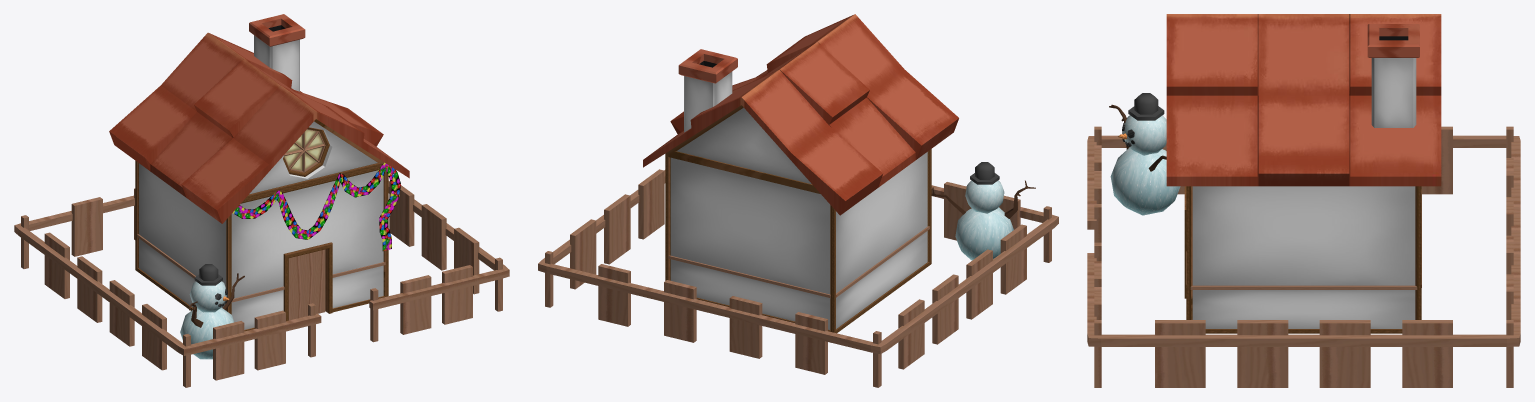
The model's file is house 2.fbx.
3 renders of one model, left to right at view 1: azimuth 30°, elevation 25°; view 2: azimuth 150°, elevation 25°; view 3: azimuth 270°, elevation 25°, orthographic. The views are drawn at different scales.
Visible parts, largest first — view 1: Cube, Plane.002, Cube.003, Plane.001, Icosphere, Cube.001, Cylinder.001; view 2: Cube, Plane.002, Icosphere, Cube.001; view 3: Cube, Plane.002, Icosphere, Cube.001.
Part boxes in pixels (x1=…): Cube: x1=109, y1=32, x2=409, y2=331; Plane.002: x1=14, y1=181, x2=509, y2=387; Cube.003: x1=283, y1=242, x2=332, y2=321; Plane.001: x1=233, y1=162, x2=400, y2=250; Icosphere: x1=180, y1=264, x2=244, y2=359; Cube.001: x1=249, y1=14, x2=305, y2=91; Cylinder.001: x1=283, y1=127, x2=329, y2=176; Cube: x1=643, y1=14, x2=958, y2=333; Plane.002: x1=538, y1=169, x2=1058, y2=387; Icosphere: x1=931, y1=162, x2=1035, y2=260; Cube.001: x1=678, y1=49, x2=737, y2=132; Cube: x1=1166, y1=14, x2=1441, y2=333; Plane.002: x1=1087, y1=126, x2=1520, y2=387; Icosphere: x1=1109, y1=93, x2=1180, y2=215; Cube.001: x1=1367, y1=24, x2=1419, y2=127.
Size of the model in its own units: 1020 by 671 by 920.
Materials: 8 (8 with a texture image).
